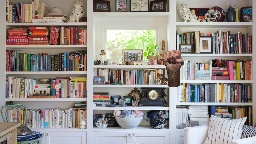Pugno: (161, 49, 184, 69)
